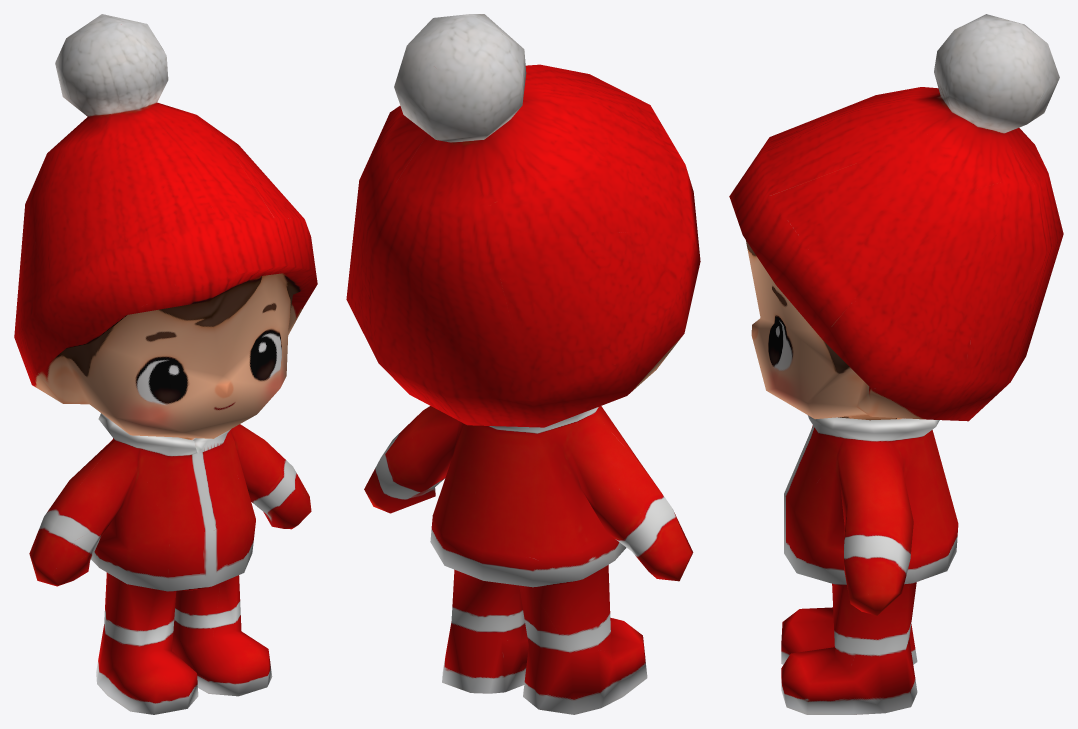
Rendered from Meshy_AI_model.glb.
3 renders of one model, left to right at view 1: azimuth 30°, elevation 25°; view 2: azimuth 150°, elevation 25°; view 3: azimuth 270°, elevation 25°, orthographic. The views are drawn at different scales.
Parts seen in each view (by area): view 1: geometry_0; view 2: geometry_0; view 3: geometry_0.
Part boxes in pixels (<box>): geometry_0: <box>14,14,317,714</box>; geometry_0: <box>346,14,700,714</box>; geometry_0: <box>729,14,1063,714</box>.
Size of the model in its own units: 0.4468 by 0.9526 by 0.439.
Materials: 1 (1 with a texture image).
